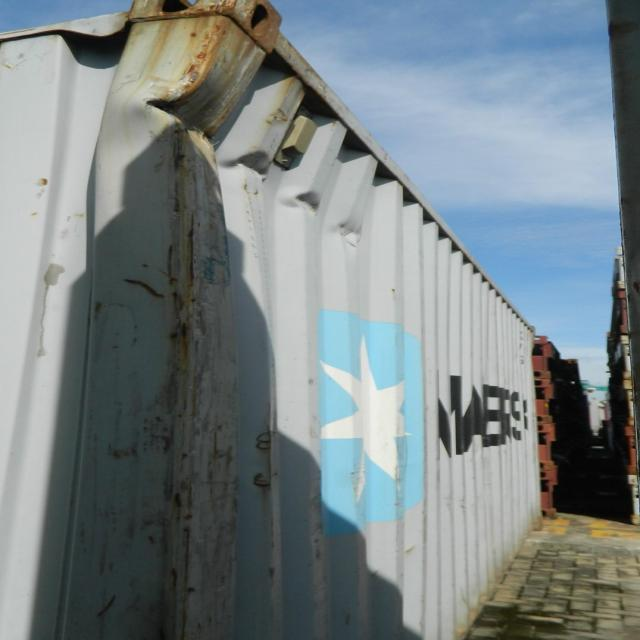dent: (71, 37, 272, 291), (215, 144, 377, 293)
